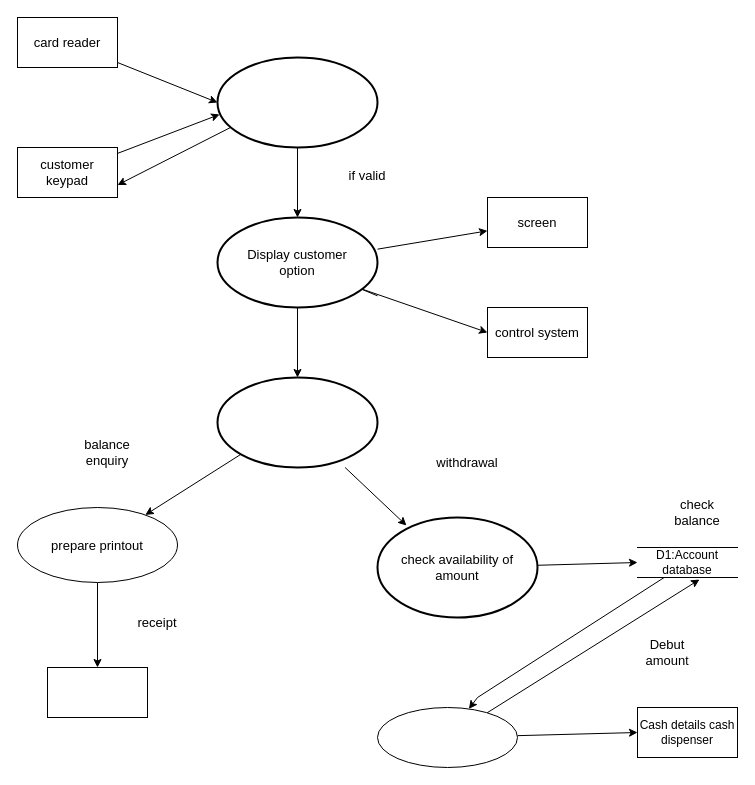
Some shapes in this 755 by 785 pixel diagram are drawn without their labels. The box of each missing label's shape, as (x1, y1, x2, y2) in pixels:
printout dispenser: (46, 666, 148, 718)
select service: (216, 376, 378, 468)
Update database: (376, 706, 518, 768)
verify PIN & account no: (216, 56, 378, 148)
